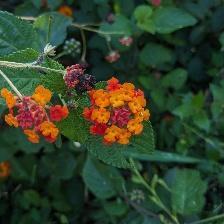common lanthana: (83, 81, 156, 145)
